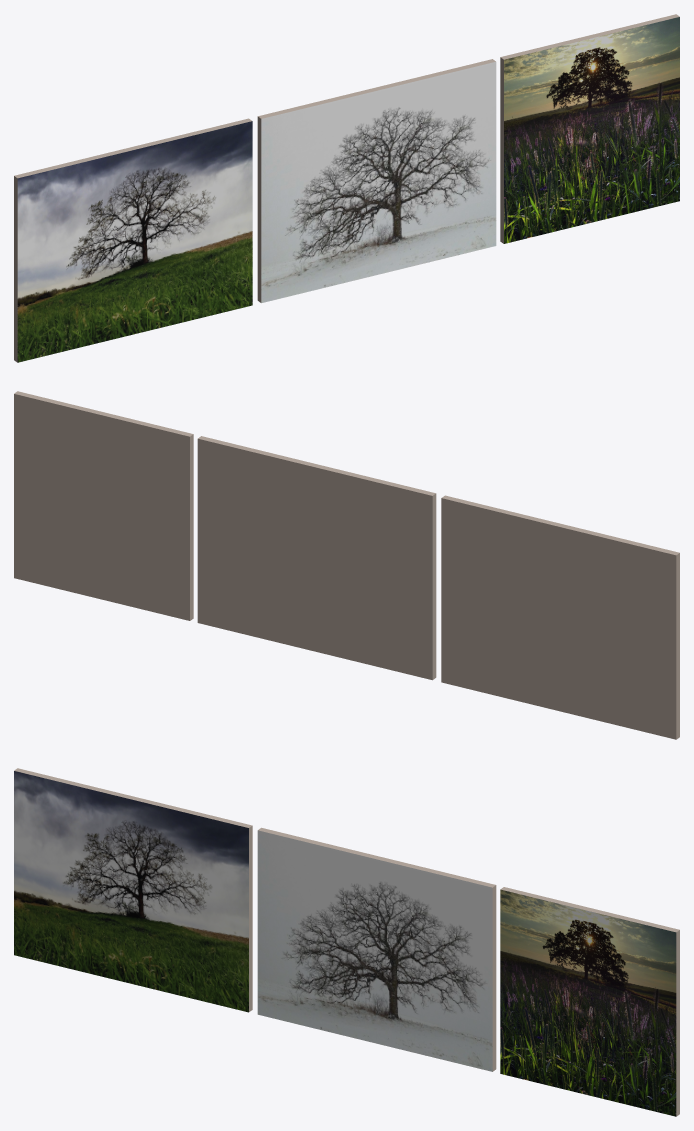
The picture shows the model from 3 angles, top to bottom: view 1: azimuth 30°, elevation 25°; view 2: azimuth 150°, elevation 25°; view 3: azimuth 330°, elevation 25°; orthographic projection.
Visible parts, largest first — view 1: Paint.009; view 2: Paint.009; view 3: Paint.009.
Boxes of the visible parts, x1,y1,x2,y2 form: Paint.009: (14, 14, 679, 362); Paint.009: (14, 391, 679, 739); Paint.009: (14, 768, 679, 1116).
Bounding box in the file's own units: 1.06 × 0.2832 × 0.01.
Materials: 4 (3 with a texture image).
